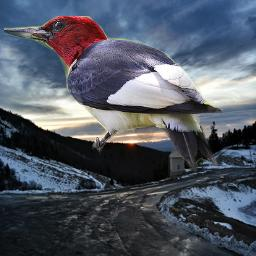Woodpecker: (4, 16, 223, 172)
